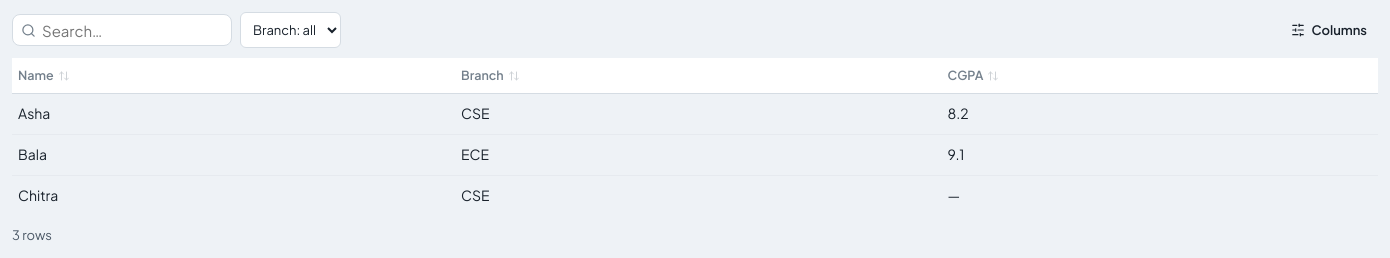
it: DataTable › sorts when a header is clicked and filters by search
Click the button "CGPA".
click(973, 76)  # box [948,66,999,85]
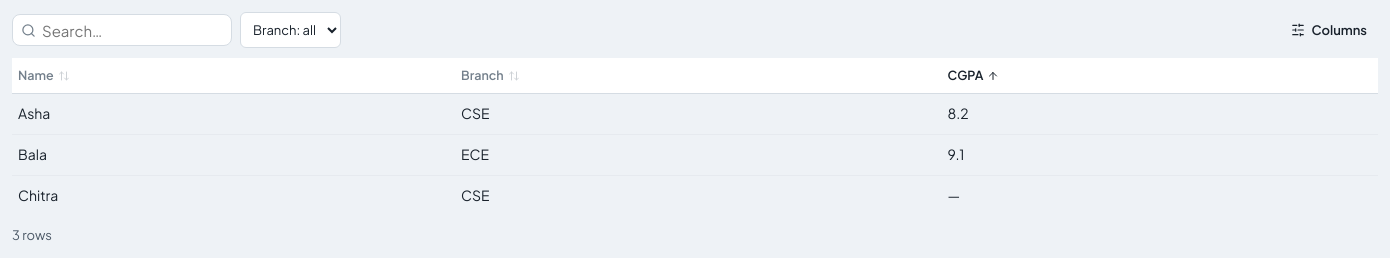
Click the button "CGPA".
click(973, 76)  # box [948,66,999,85]
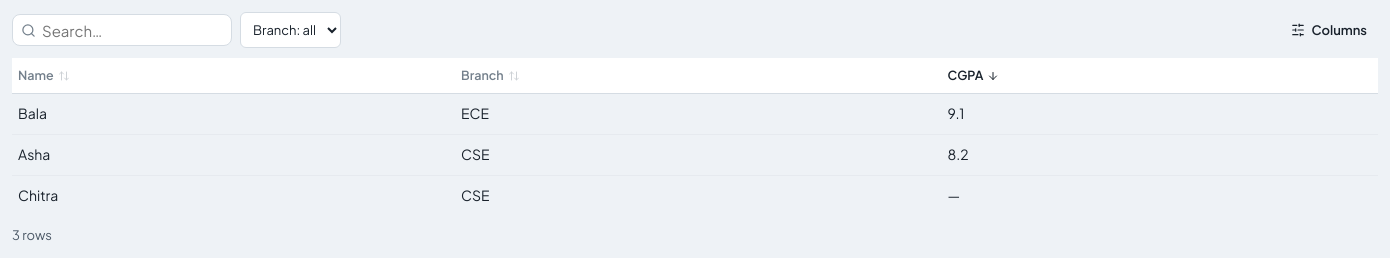
Type "chit" into the field named "Search table".
click(132, 30); type("chit")  # box [42,12,223,48]
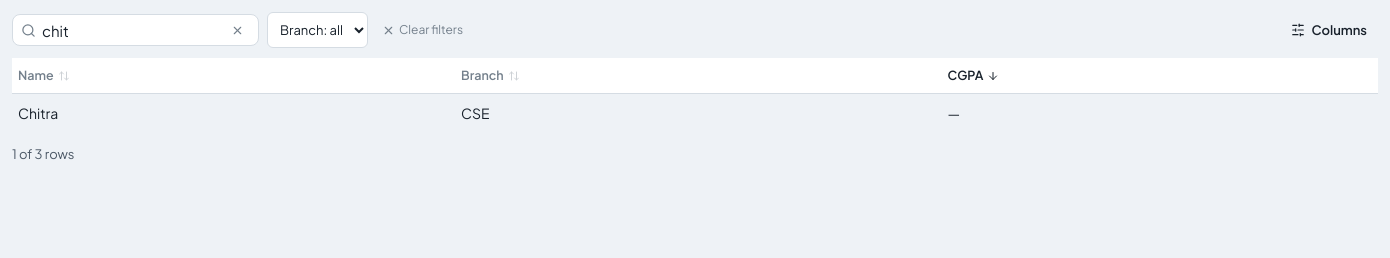
expect the text "1 of 3 rows" is shown: met, box [12,144,74,164]
